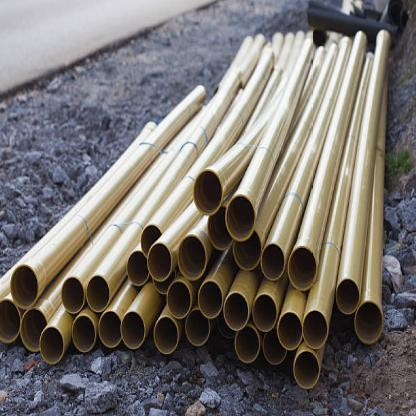pipe: (192, 169, 223, 215), (225, 194, 256, 240), (177, 234, 207, 280), (288, 246, 318, 290), (354, 300, 384, 344), (10, 264, 39, 309), (233, 228, 262, 272), (20, 307, 48, 352), (207, 206, 233, 250), (146, 242, 172, 282), (302, 309, 328, 349), (167, 279, 192, 319), (0, 298, 22, 343), (184, 308, 210, 346), (120, 311, 146, 349), (277, 312, 303, 350), (294, 350, 320, 388), (198, 280, 223, 318), (224, 292, 249, 330), (252, 294, 277, 332), (235, 325, 260, 363), (154, 316, 178, 355), (261, 243, 285, 281), (86, 274, 110, 312), (61, 276, 85, 314), (98, 310, 122, 348), (72, 314, 96, 352), (40, 326, 64, 364), (336, 277, 360, 314), (262, 328, 286, 365), (126, 250, 150, 286), (140, 223, 162, 256)
